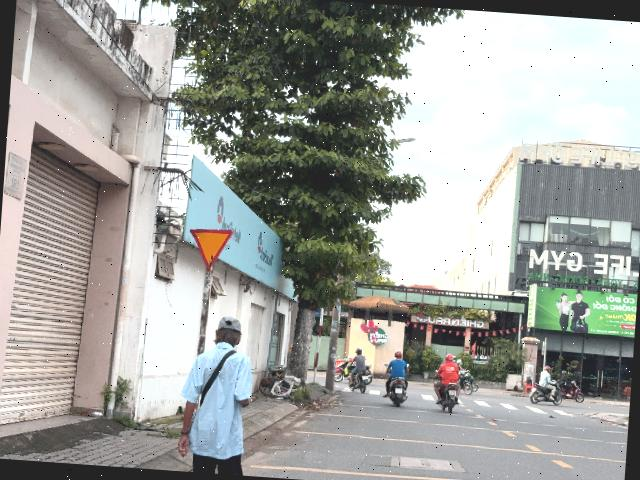giao-nhau-voi-duong-uu-tien: (186, 227, 232, 271)
